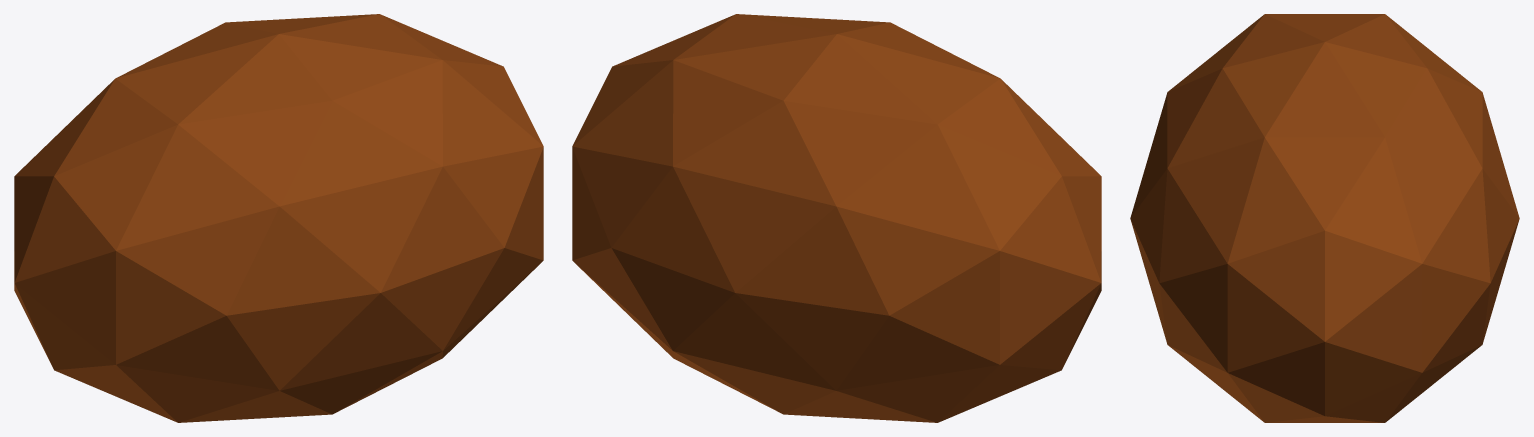
The model's file is nil_link_mesh.dae.
3 views of the same model, side by side, from view 1: azimuth 30°, elevation 25°; view 2: azimuth 150°, elevation 25°; view 3: azimuth 270°, elevation 25° (orthographic). The views are drawn at different scales.
Visible parts, largest first — view 1: nil_link; view 2: nil_link; view 3: nil_link.
Boxes of the visible parts, left/top/right/bottom form: nil_link: left=14, top=14, right=543, bottom=422; nil_link: left=572, top=14, right=1101, bottom=422; nil_link: left=1130, top=14, right=1519, bottom=422.
Size of the model in its own units: 0.09 by 0.06 by 0.06.
